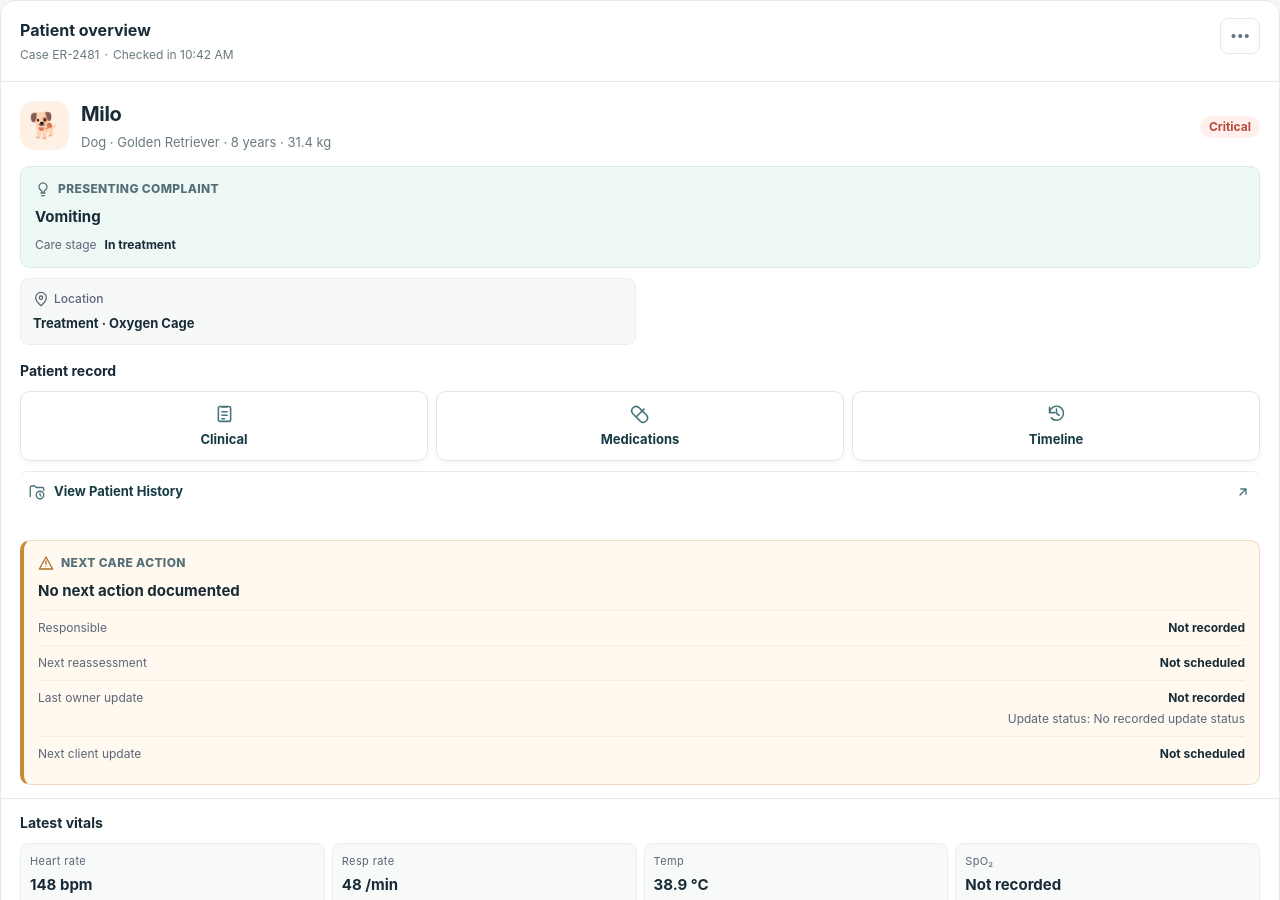
PatientOverviewPanel › saves a status change from More actions, reloads the board and returns focus
Click the button named "More actions" at (1240, 36), box [1220,18,1260,54]
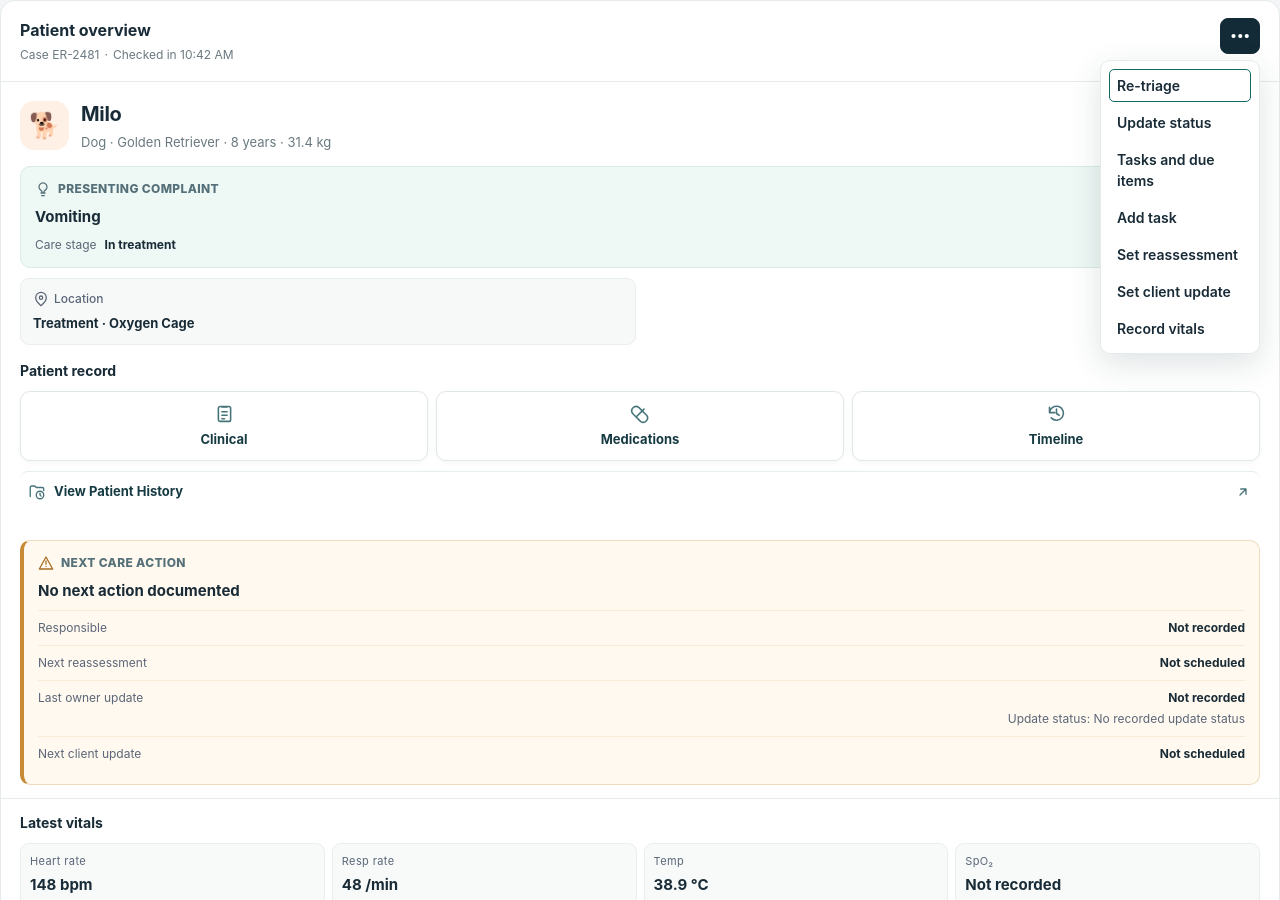
Click the button "Update status" at (1180, 122), box [1107,104,1253,140]
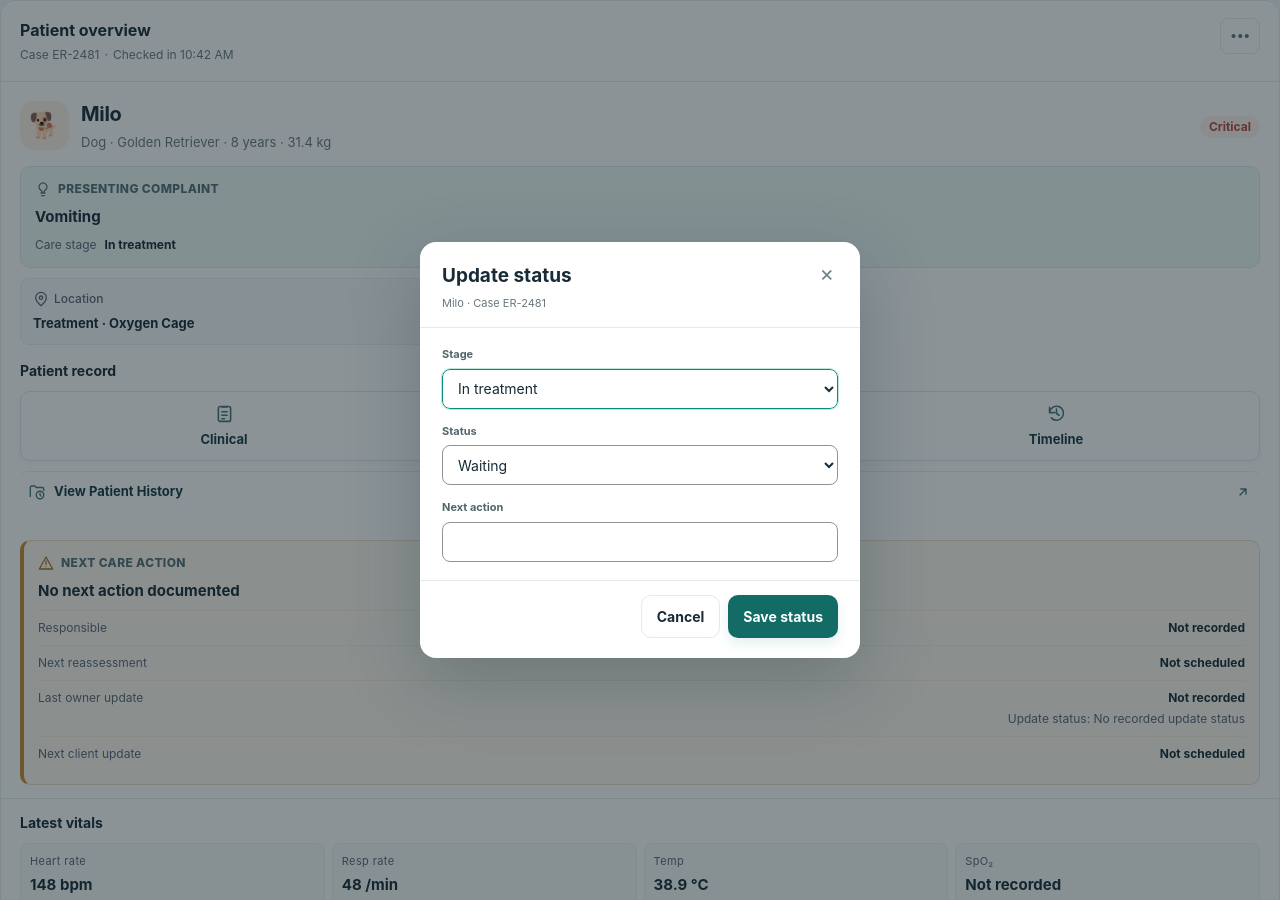
Select "Waiting" in the dropdown labelled "Status" at (640, 465), box [442,445,838,485]
Click the button "Save status" at (783, 616), box [728,595,838,638]
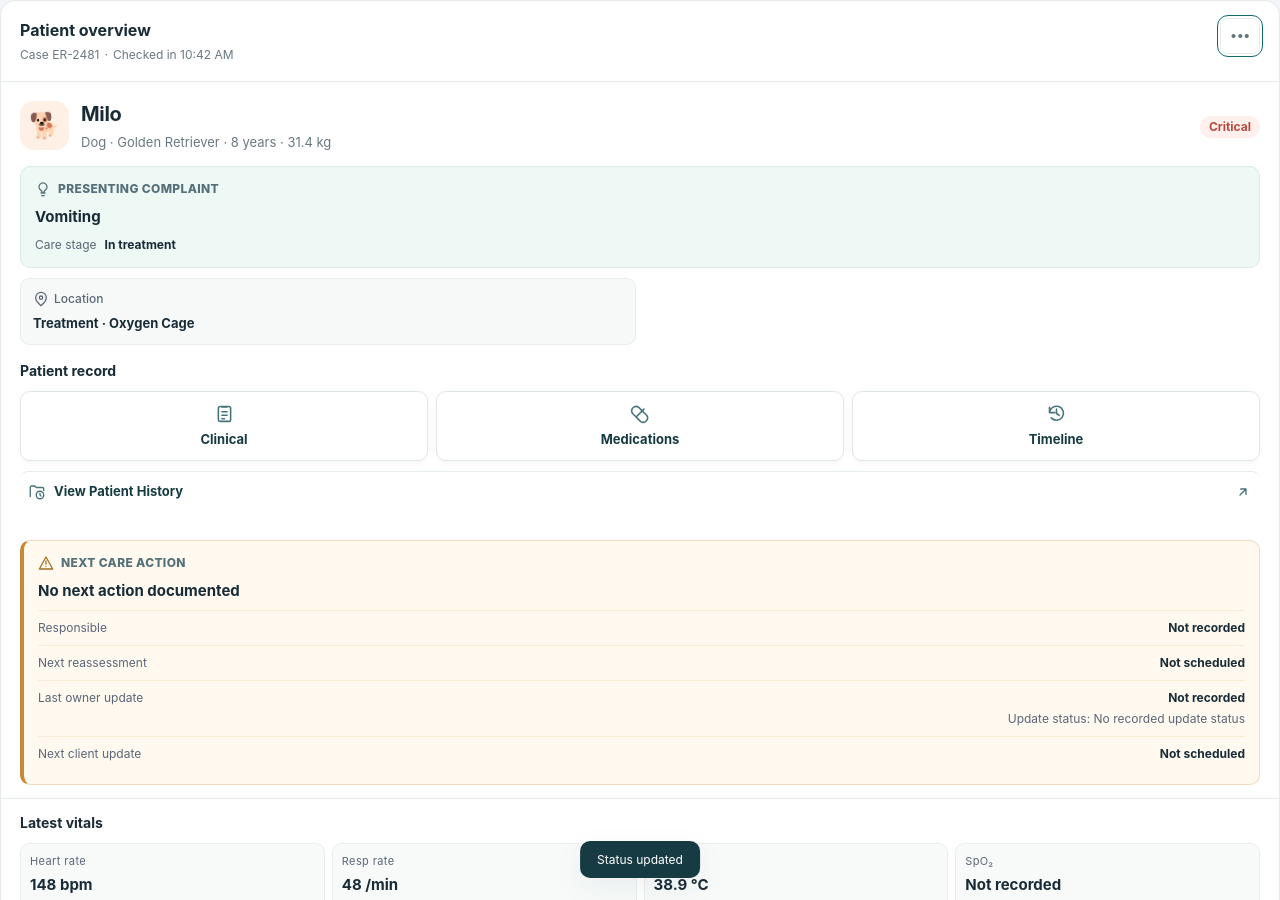
Result: the text "Status updated" is shown at [580,841,700,878]
Result: the button "×" is gone
